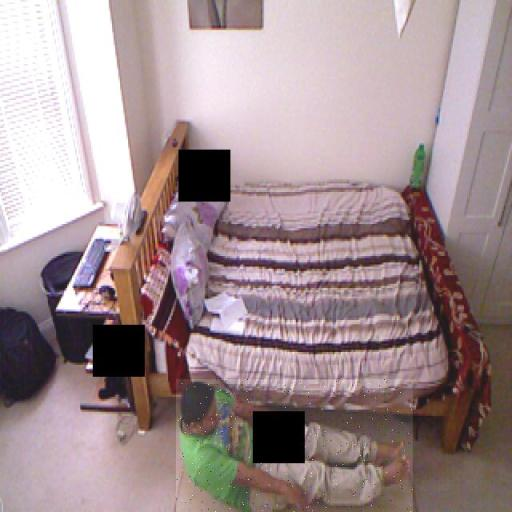Fall: (176, 379, 413, 512)
